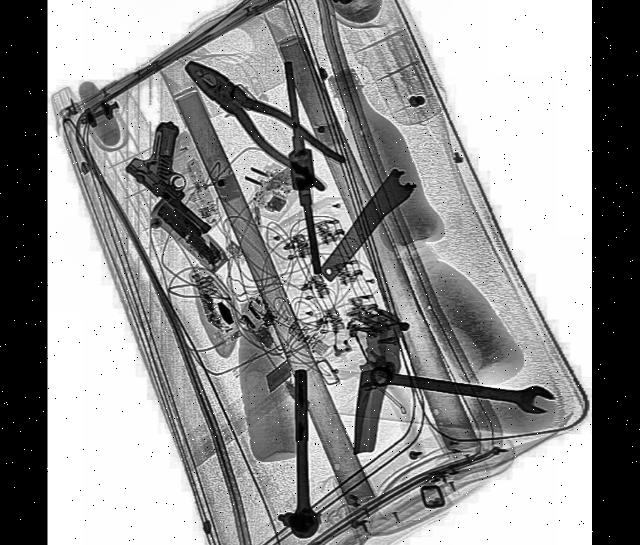Gun: (124, 105, 239, 240)
Pliers: (178, 40, 348, 200)
Wrench: (373, 360, 558, 415)
